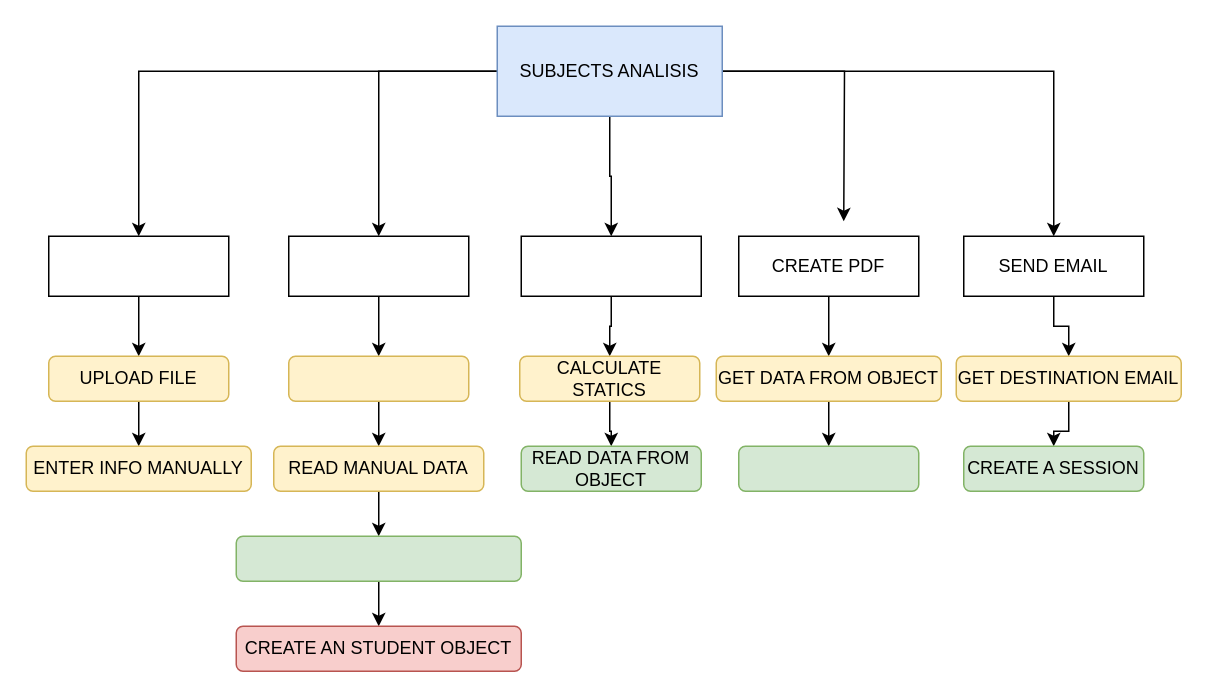
Image size: 1208x698. Some labels were removed from this diagram. Each missing label, with the centre of its shape:
"ANALISIS DATA" belongs at point (610, 265).
"CREATE TXT FILE" belongs at point (828, 468).
"GET DATA" belongs at point (138, 265).
"READ DATA" belongs at point (378, 265).
"READ FILE" belongs at point (378, 378).
"STORAGE DATA IN VARIABLES" belongs at point (378, 558).
